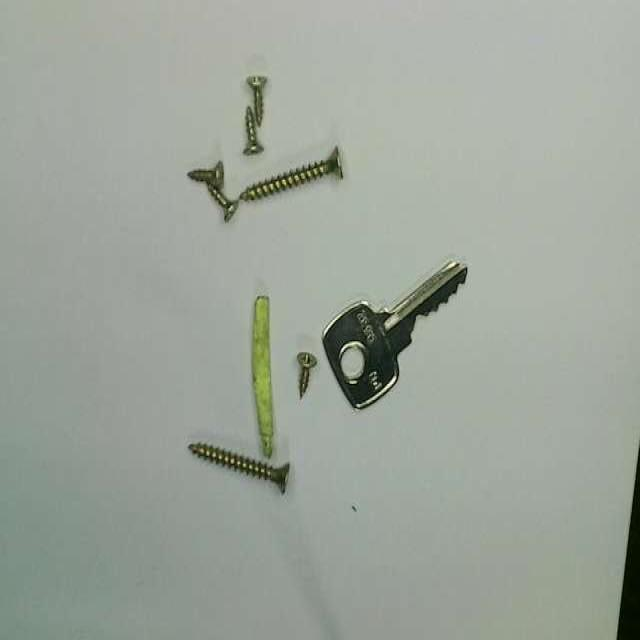Parafuso: (239, 149, 342, 202), (192, 445, 291, 493), (207, 191, 239, 228), (189, 163, 224, 191), (246, 76, 266, 124), (244, 107, 264, 153), (298, 354, 316, 398)
